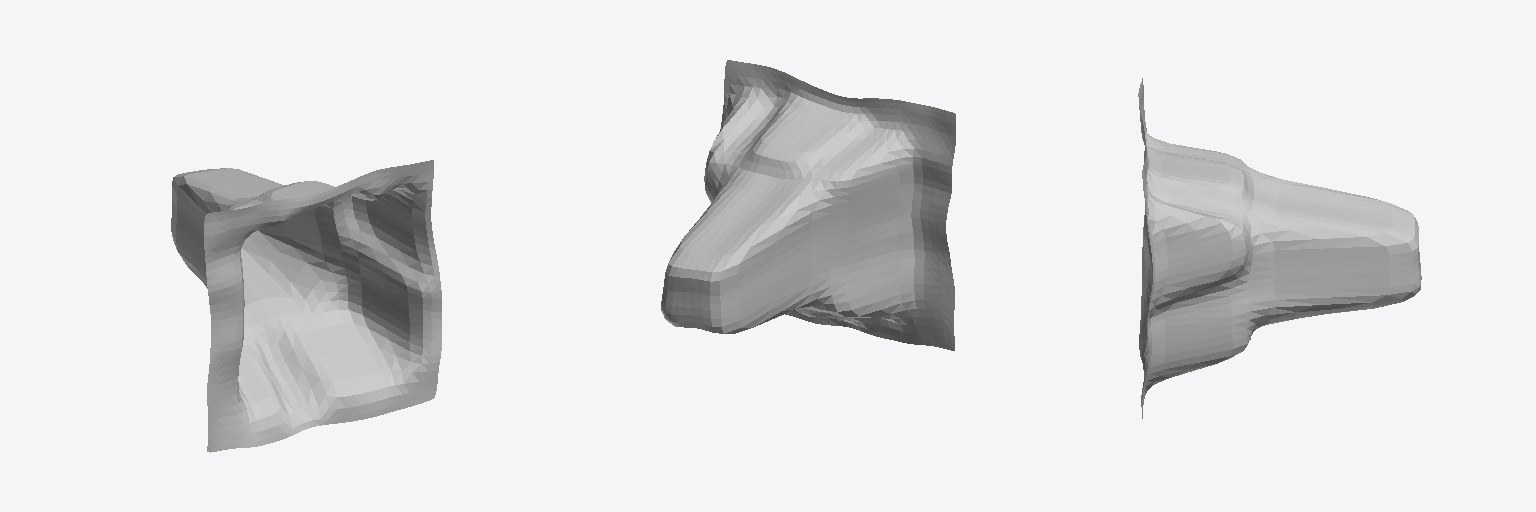
The model's file is pool3.obj.
3 views of the same model, side by side, from view 1: azimuth 30°, elevation 25°; view 2: azimuth 150°, elevation 25°; view 3: azimuth 270°, elevation 25° (orthographic).
Size of the model in its own units: 40.44 by 39.37 by 41.26.